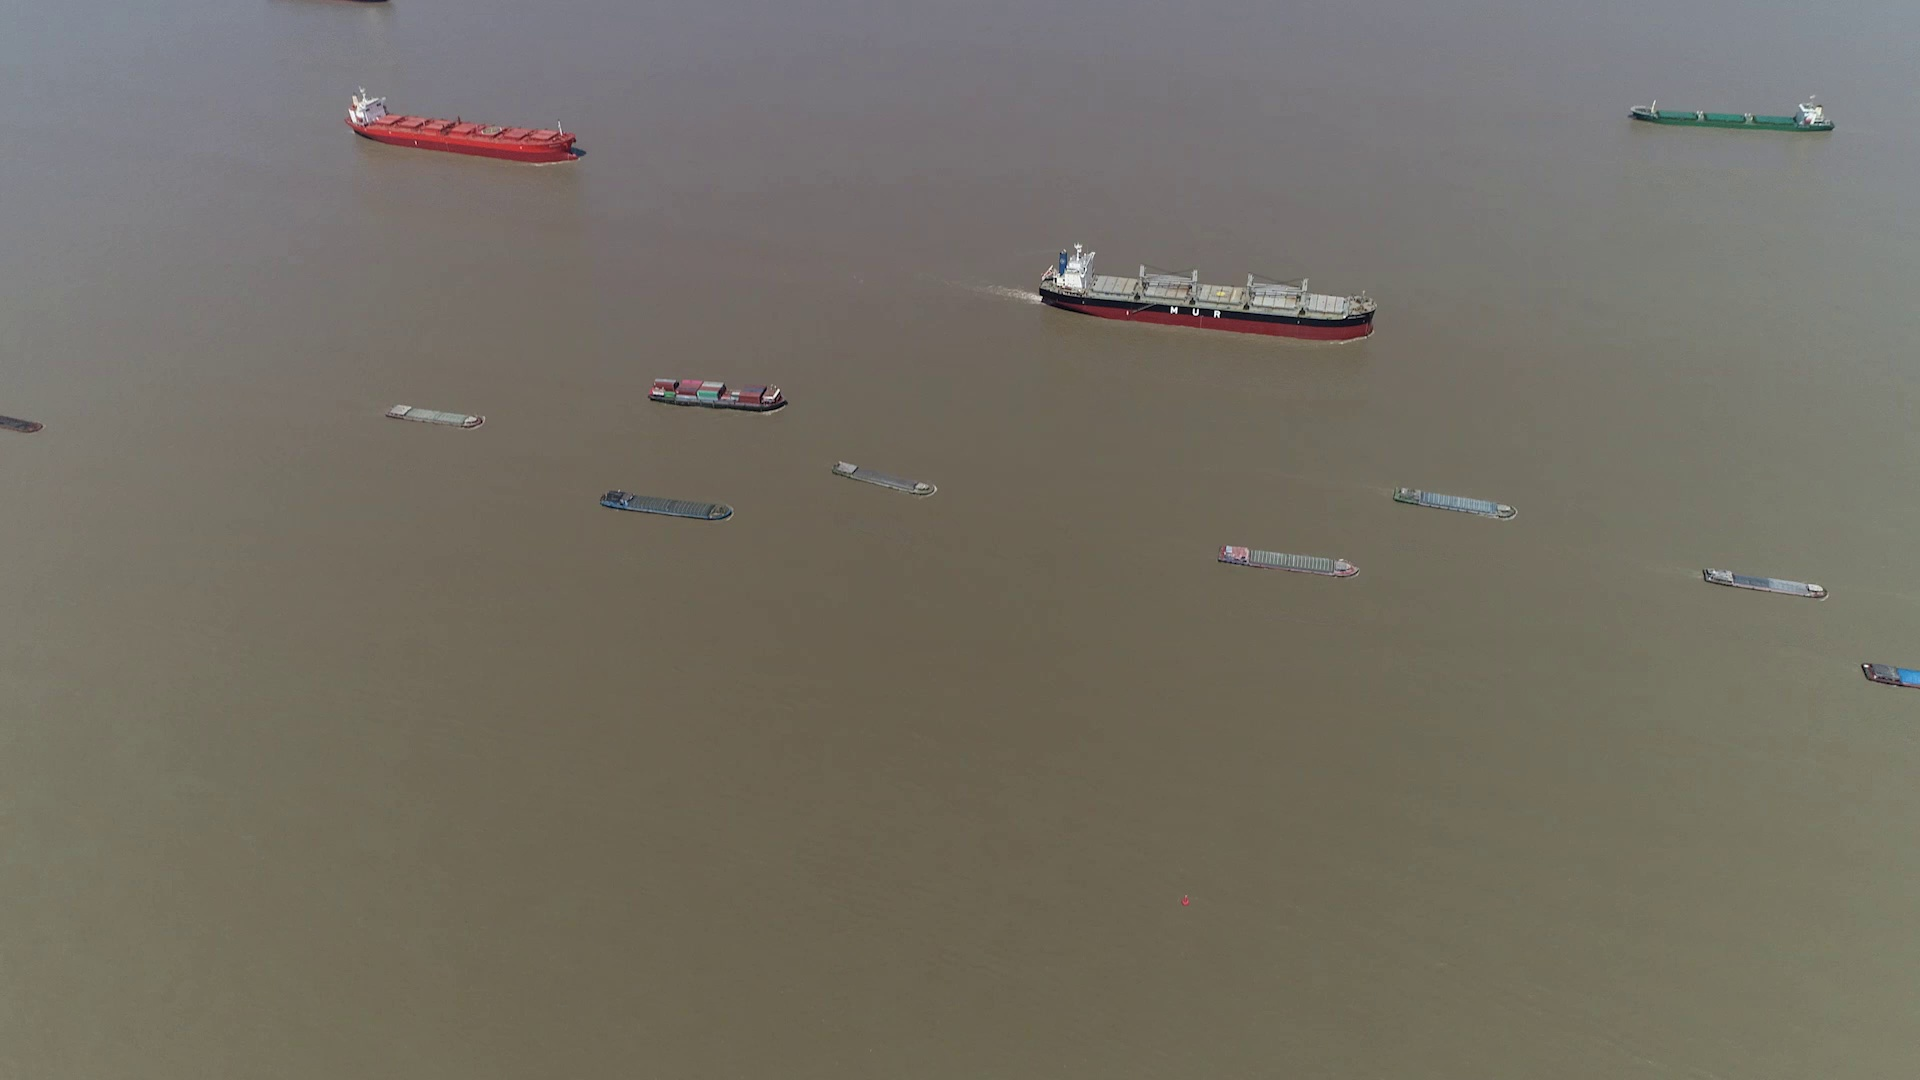ship: (1036, 245, 1375, 338), (348, 88, 582, 162), (1629, 98, 1834, 131), (1218, 543, 1358, 576), (647, 378, 785, 411), (1393, 485, 1516, 520), (600, 491, 735, 521), (1701, 566, 1828, 597), (831, 462, 936, 495), (385, 402, 485, 427), (1859, 661, 1919, 694), (0, 407, 42, 436)
